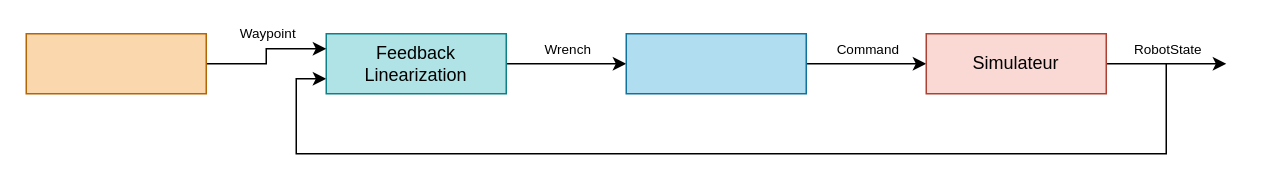
Image size: 1265x192. Some labels were removed from this diagram. The box of each missing label's shape, as (x1, y1, x2, y2) in pixels:
Navigation: (25, 32, 206, 94)
Thrust Allocation: (625, 32, 806, 94)
